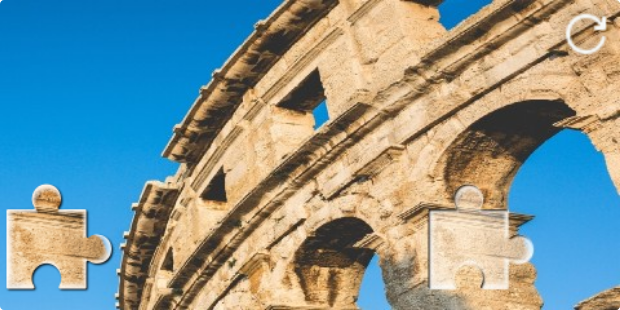target: (429, 186, 535, 291)
